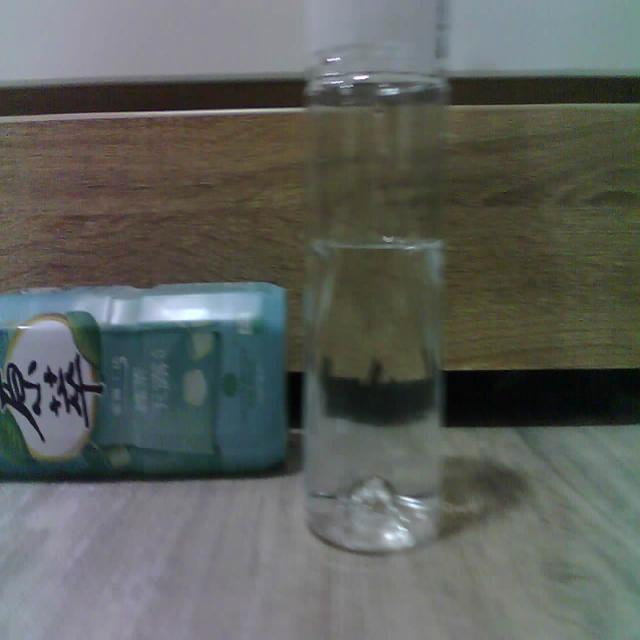bottle: (303, 0, 448, 551), (0, 283, 286, 476)
